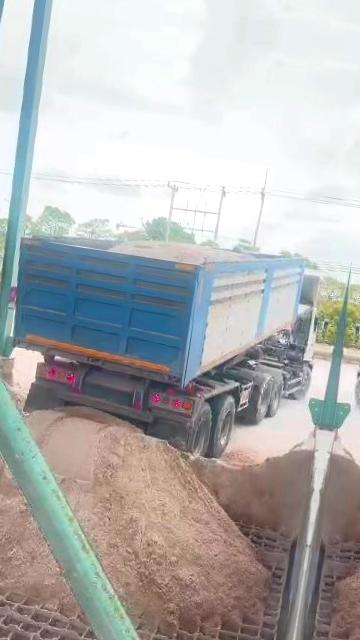sand: (29, 408, 267, 630), (187, 437, 313, 538), (0, 435, 74, 606), (109, 240, 247, 265), (221, 449, 262, 467)
